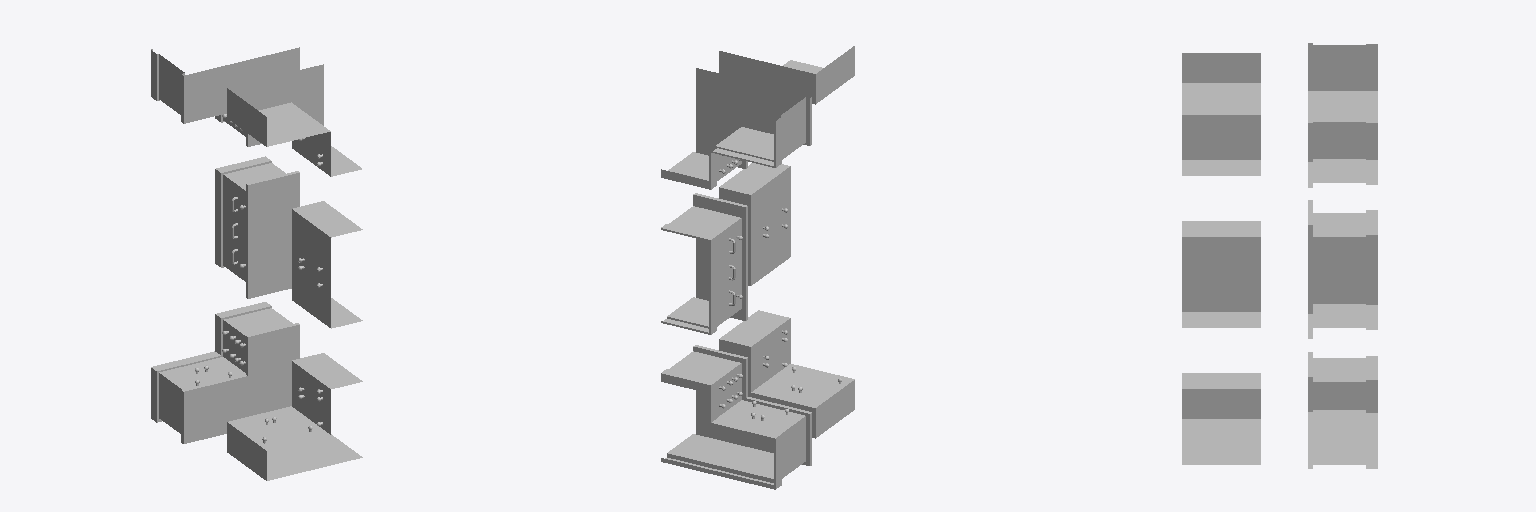
Rendered from Cupboards.obj.
The picture shows the model from 3 angles: view 1: azimuth 30°, elevation 25°; view 2: azimuth 150°, elevation 25°; view 3: azimuth 270°, elevation 25°; orthographic projection.
Visible parts, largest first — view 1: Cupboards; view 2: Cupboards; view 3: Cupboards.
Part boxes in pixels (bbox=[...]): Cupboards: bbox=[151, 47, 362, 480]; Cupboards: bbox=[661, 46, 854, 489]; Cupboards: bbox=[1182, 43, 1377, 468].
Bounding box in the file's own units: 14.5 × 43.7 × 21.